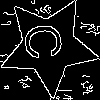C: (23, 21, 71, 61)
